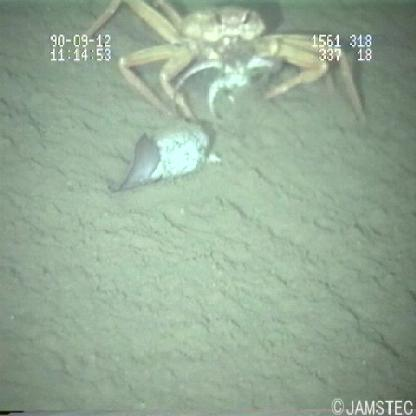Bio: (78, 1, 367, 193)
